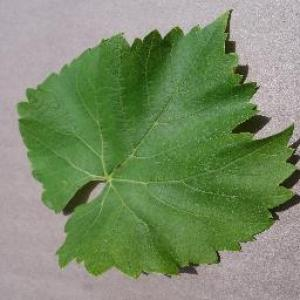Folha: (15, 8, 299, 280)
